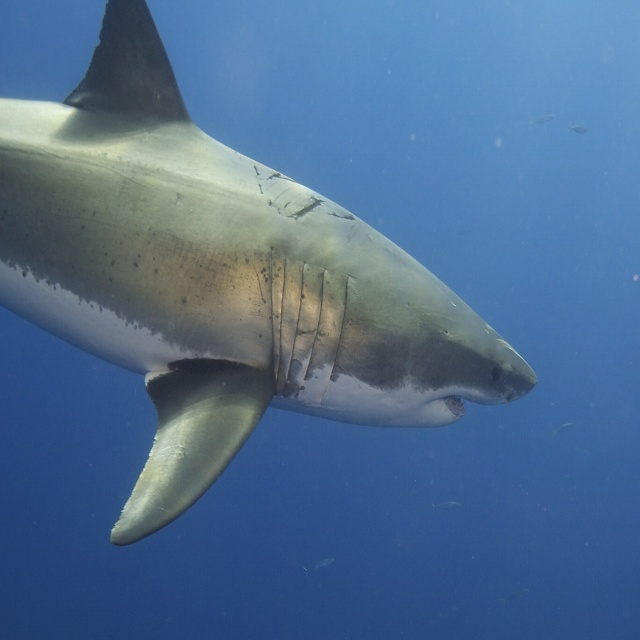Shark: (2, 0, 539, 547)
